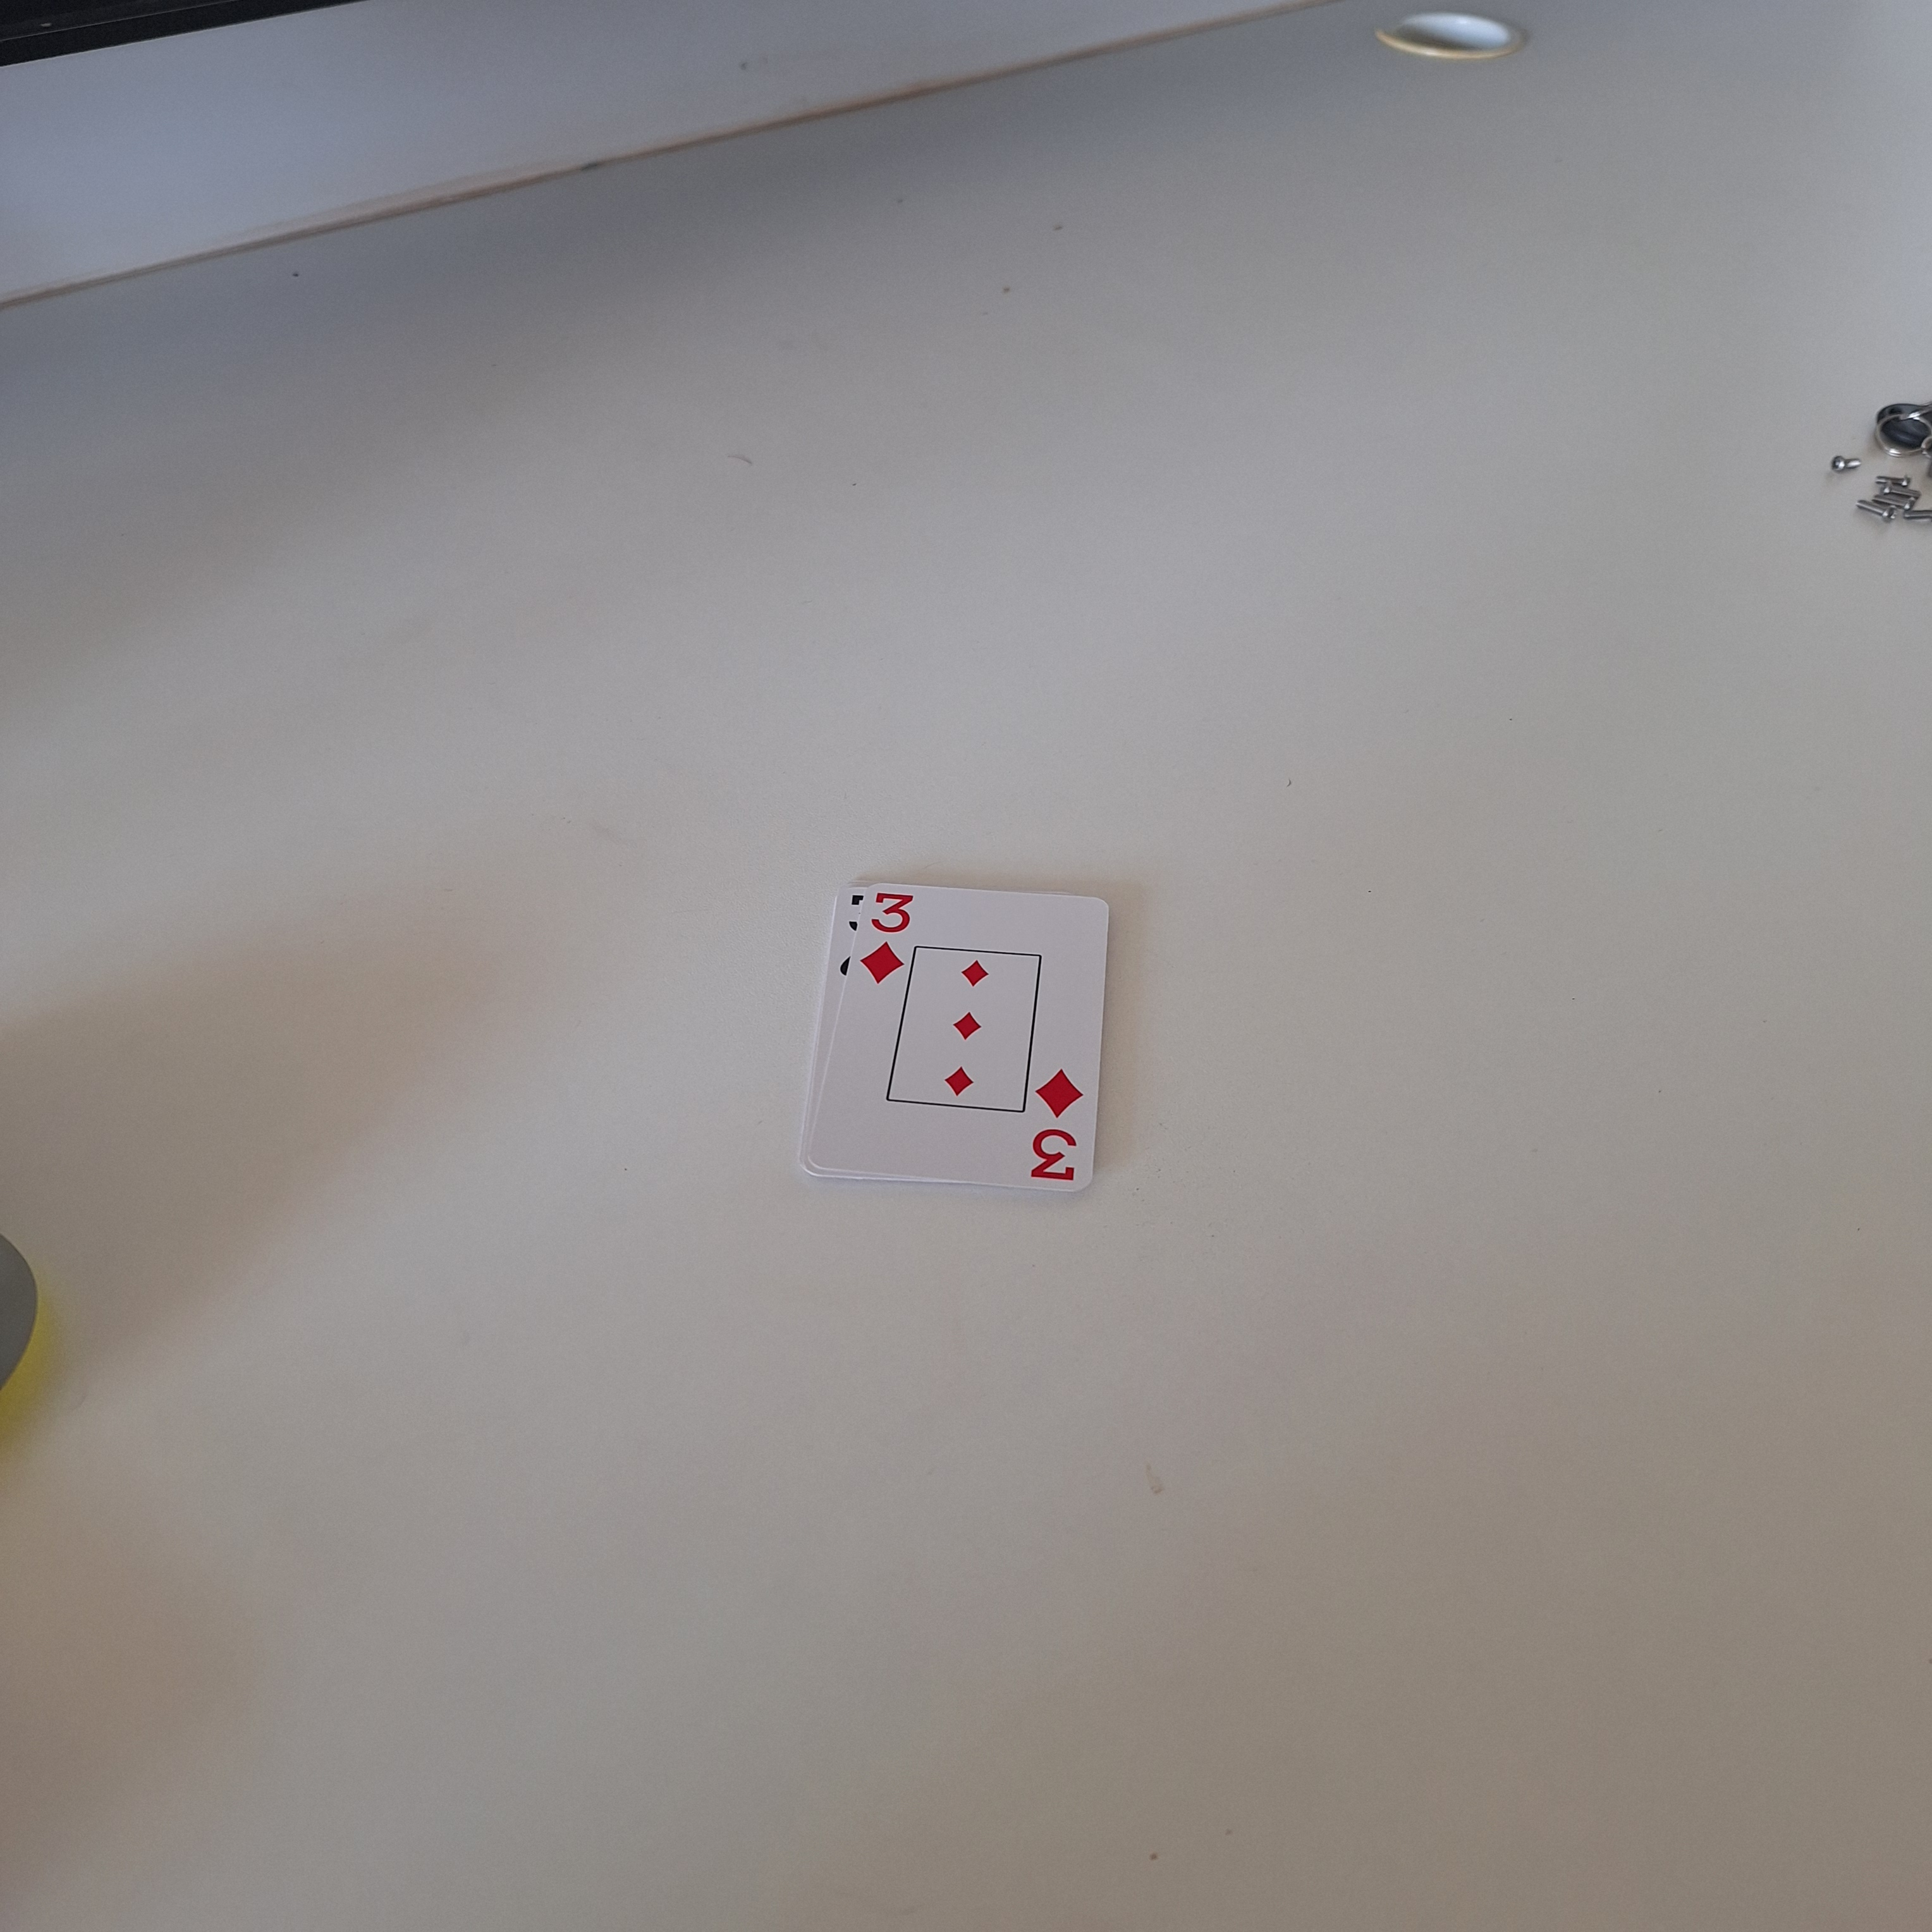3O: (1023, 1062, 1095, 1194), (858, 886, 918, 989)
